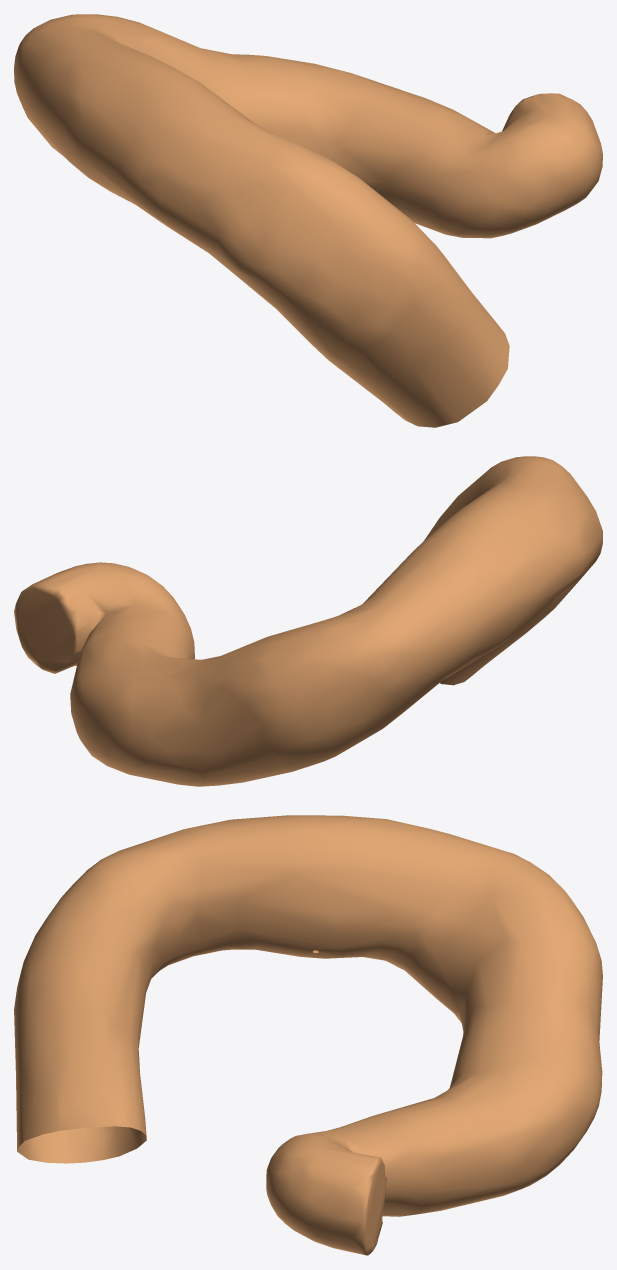
The picture shows the model from 3 angles, top to bottom: view 1: azimuth 30°, elevation 25°; view 2: azimuth 150°, elevation 25°; view 3: azimuth 270°, elevation 25°; orthographic projection. The views are drawn at different scales.
Visible parts, largest first — view 1: 十二指肠; view 2: 十二指肠; view 3: 十二指肠.
Part boxes in pixels (box(x1,y1,x2,y2)): 十二指肠: box(14, 14, 602, 427); 十二指肠: box(14, 456, 602, 786); 十二指肠: box(14, 815, 602, 1255).
Size of the model in its own units: 0.1443 by 0.0761 by 0.145.
